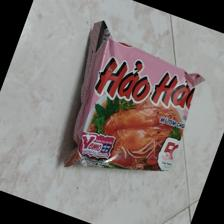Haohao: (66, 18, 203, 183)
